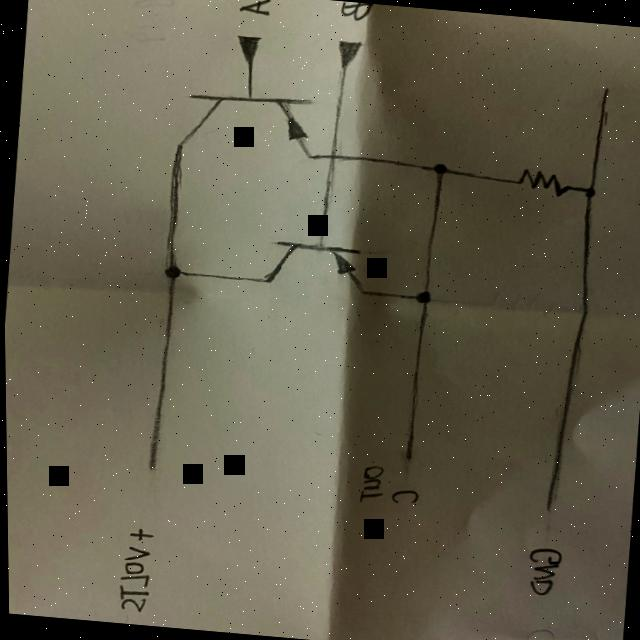crossover: (320, 145, 343, 166)
junction: (401, 286, 436, 310), (152, 258, 184, 284), (424, 158, 451, 180), (580, 184, 595, 199)
resistor: (508, 166, 572, 198)
terminal: (227, 28, 264, 70), (330, 36, 361, 80), (587, 78, 616, 118), (532, 482, 559, 520), (136, 453, 162, 482), (393, 438, 416, 468)
text: (111, 544, 154, 616), (517, 543, 563, 598), (352, 460, 384, 504), (335, 0, 373, 22), (122, 524, 155, 546), (386, 486, 419, 507), (232, 0, 274, 16)
transistor: (165, 84, 318, 172), (254, 234, 373, 302)
